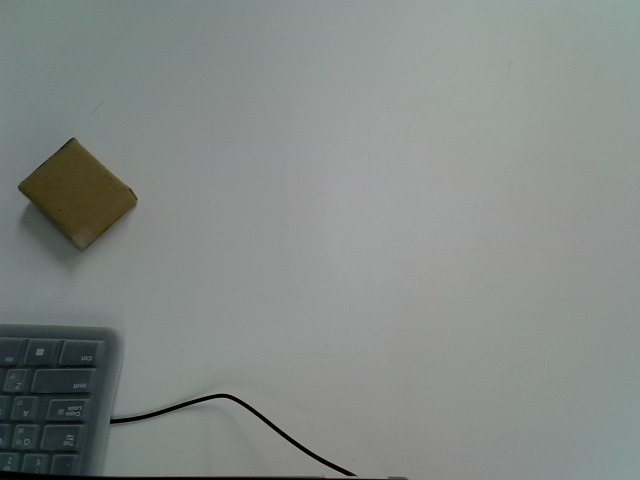normal: (17, 135, 139, 254)
